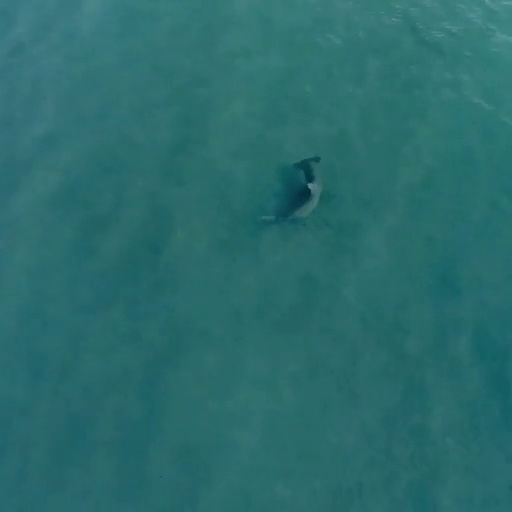shark: (256, 154, 329, 228)
